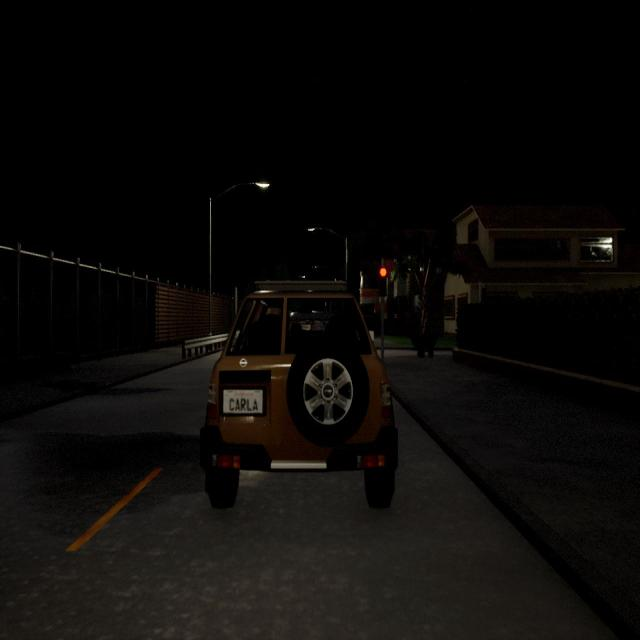Vehicle: (198, 280, 400, 511)
traffic_light: (380, 267, 387, 295)
